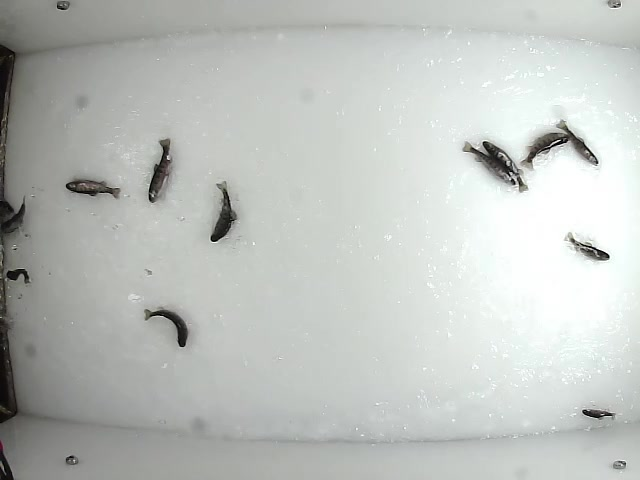fish: (461, 139, 520, 188), (482, 139, 529, 195), (554, 117, 600, 166), (141, 306, 189, 348), (147, 136, 176, 204), (209, 179, 239, 244), (562, 231, 612, 262), (62, 176, 122, 200), (580, 404, 619, 422), (5, 266, 32, 287)
